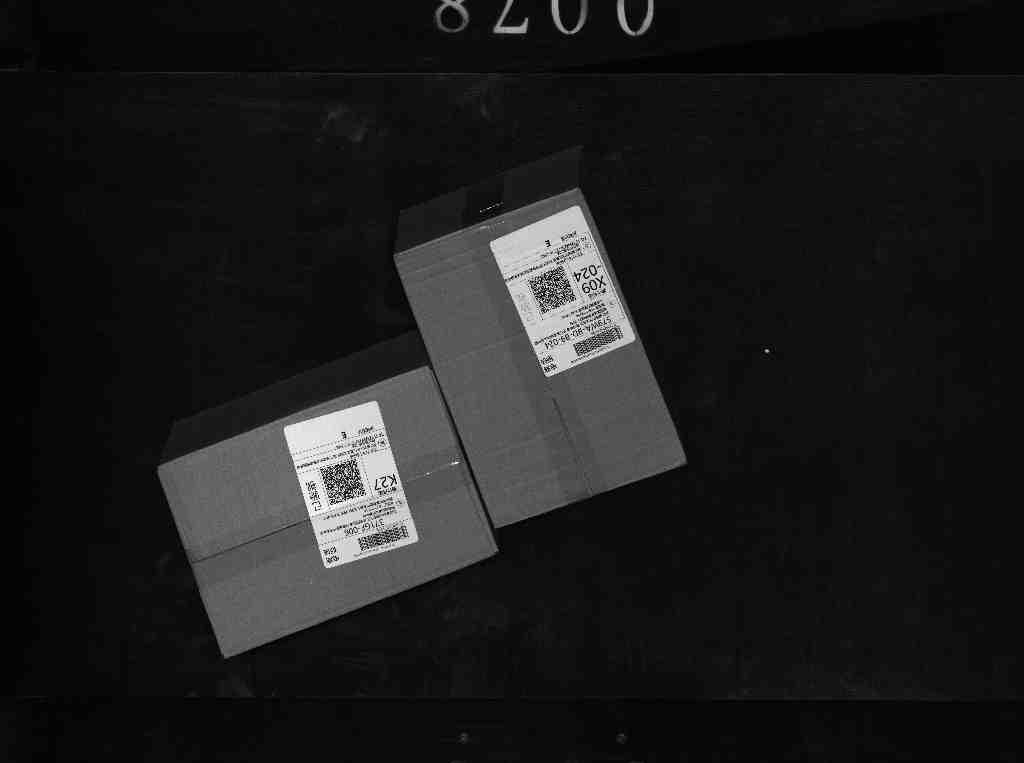box: (387, 149, 692, 525), (152, 374, 491, 662)
